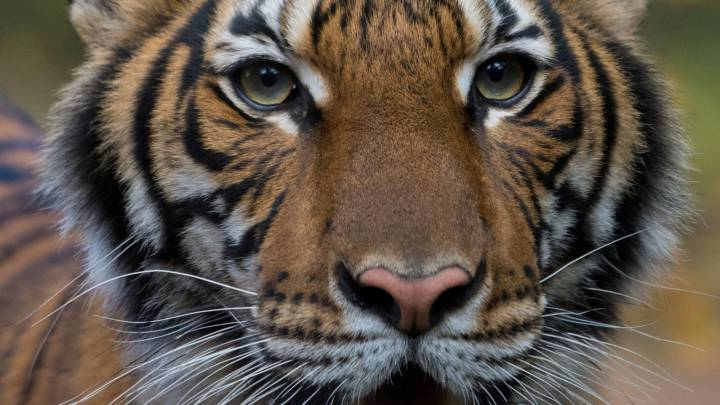Tigrew: (46, 11, 680, 395)
